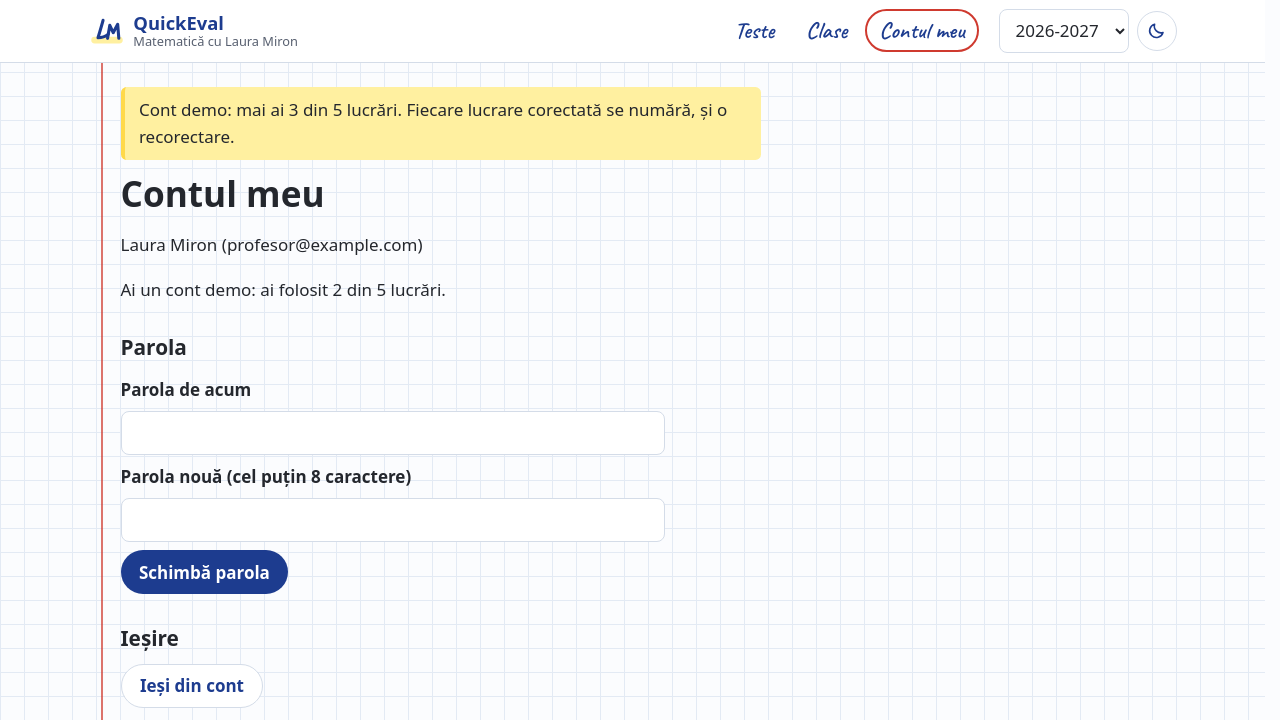
the menu by role › reads the demo line again after a change, so it shows the papers left
The width and height of the screenshot is (1280, 720).
Expected: the text "Cont demo: mai ai 3 din 5 lucrări." is shown, [139,98,727,148]
Type "parola-veche" into the password field labelled "Parola de acum" at (392, 433), box [120,411,664,455]
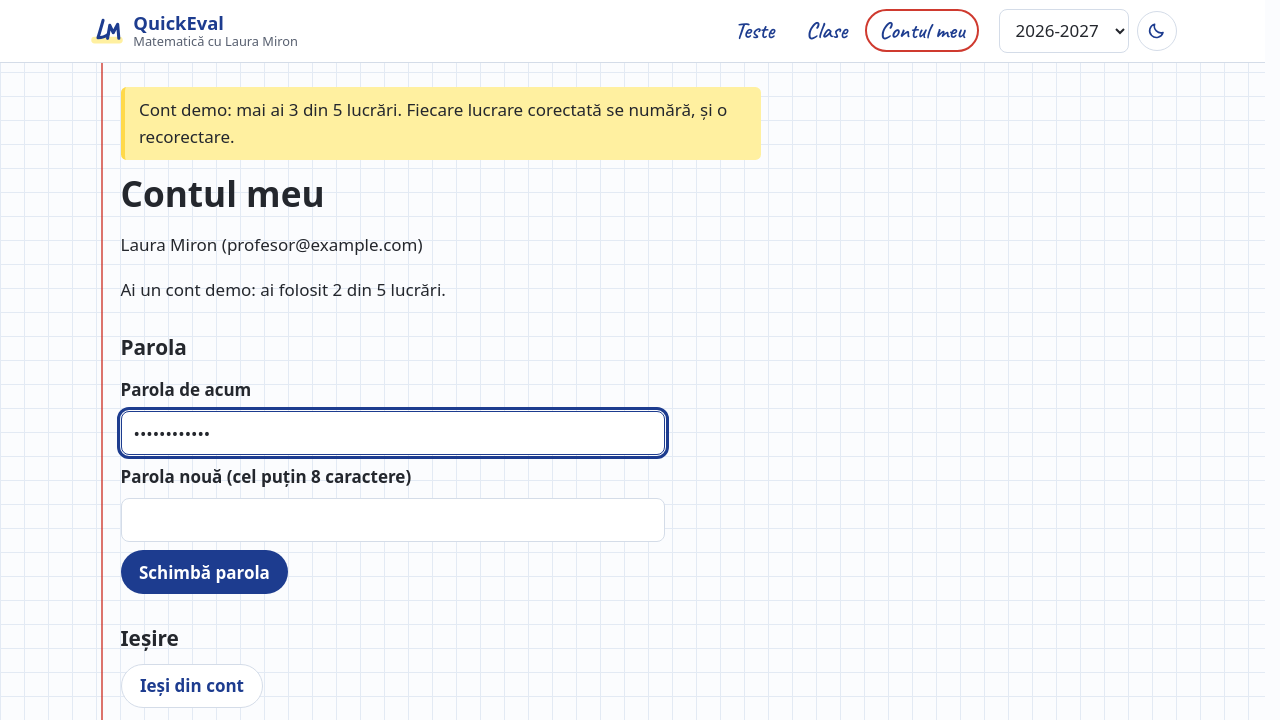
Type "parola-noua" into the password field labelled "Parola nouă (cel puțin 8 caractere)" at (392, 520), box [120,498,664,542]
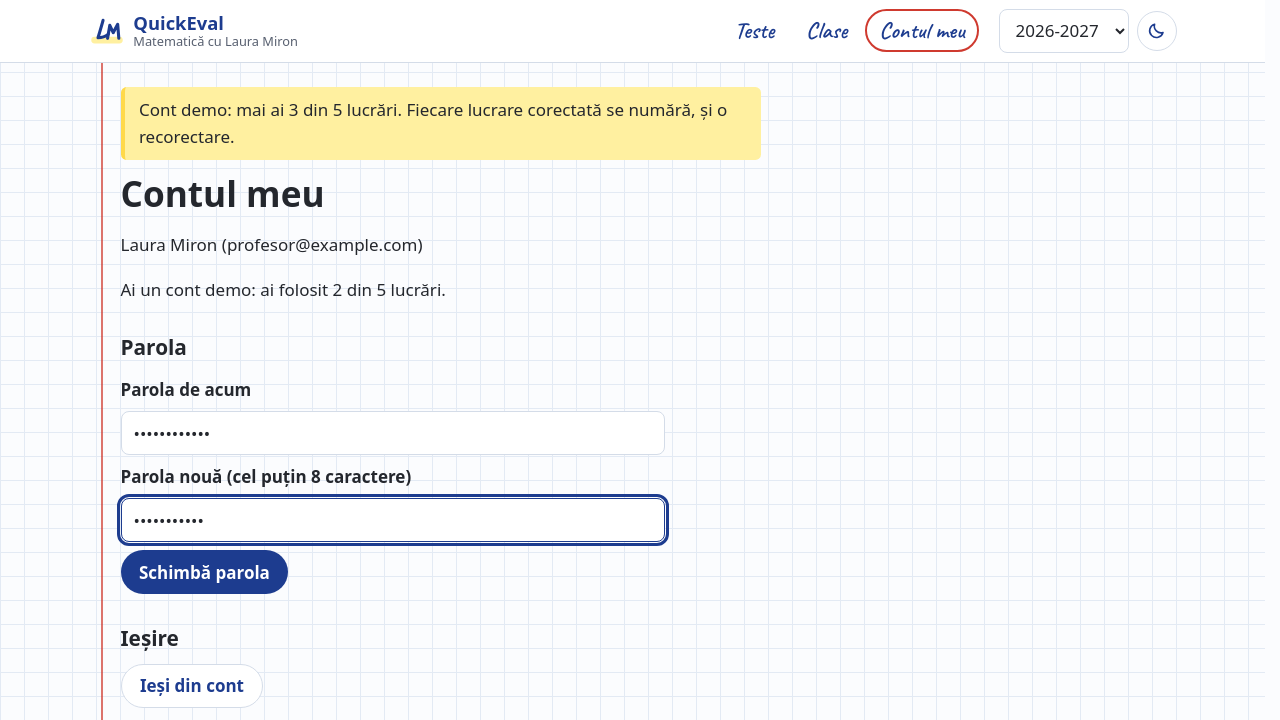
Click the button "Schimbă parola" at (204, 572), box [120,550,288,594]
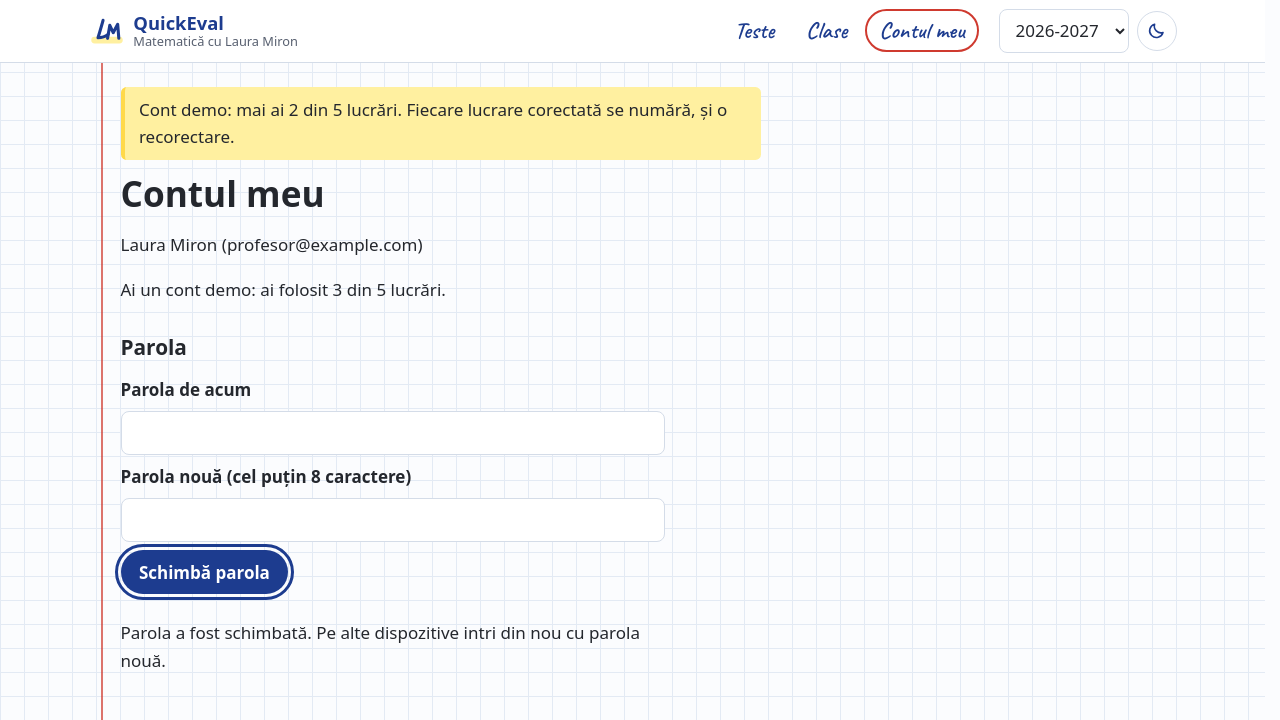
Result: the text "Cont demo: mai ai 2 din 5 lucrări." is shown at [139,98,727,148]
